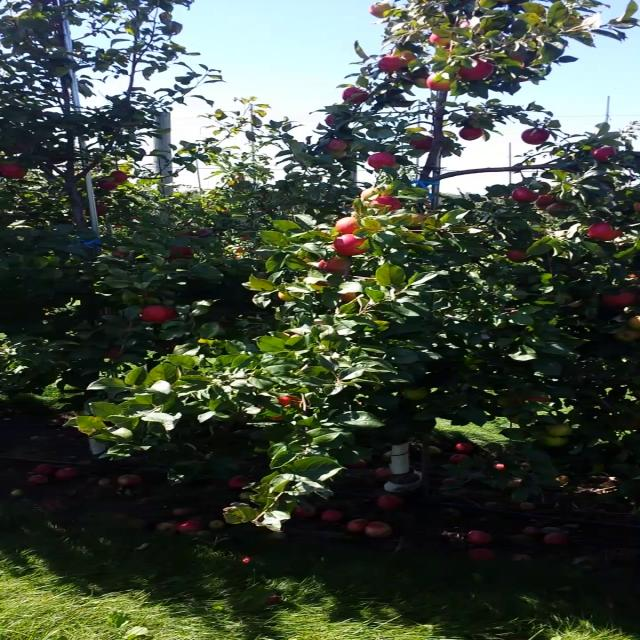apple: (459, 56, 496, 80), (139, 304, 177, 324), (334, 235, 367, 257), (586, 223, 623, 241), (367, 152, 399, 170), (366, 195, 402, 211), (316, 256, 348, 273), (164, 246, 196, 262), (606, 289, 638, 305), (376, 55, 405, 71), (511, 186, 540, 202), (332, 217, 359, 234), (342, 88, 370, 104), (522, 128, 550, 144), (570, 523, 596, 540), (428, 74, 452, 92), (1, 163, 28, 179), (458, 125, 483, 141), (593, 146, 618, 162), (534, 192, 558, 208), (260, 405, 284, 421), (411, 136, 433, 152), (369, 3, 393, 17), (546, 424, 573, 436), (275, 395, 301, 407), (323, 137, 348, 149), (404, 388, 428, 400), (358, 188, 381, 200), (511, 250, 534, 262), (543, 435, 569, 445), (431, 34, 454, 45), (99, 178, 120, 190), (435, 69, 453, 83), (524, 394, 553, 402), (408, 213, 427, 225), (102, 350, 124, 360), (616, 330, 638, 340), (300, 258, 326, 266), (545, 203, 568, 212), (111, 170, 128, 182), (322, 150, 347, 158), (415, 75, 429, 89), (96, 202, 108, 216), (401, 52, 417, 62), (340, 292, 358, 300), (111, 249, 125, 259), (512, 54, 526, 64), (629, 315, 639, 329), (323, 115, 335, 125), (180, 232, 202, 237), (507, 414, 518, 424), (276, 293, 289, 301), (457, 22, 473, 28), (204, 340, 222, 345), (630, 201, 639, 211)
